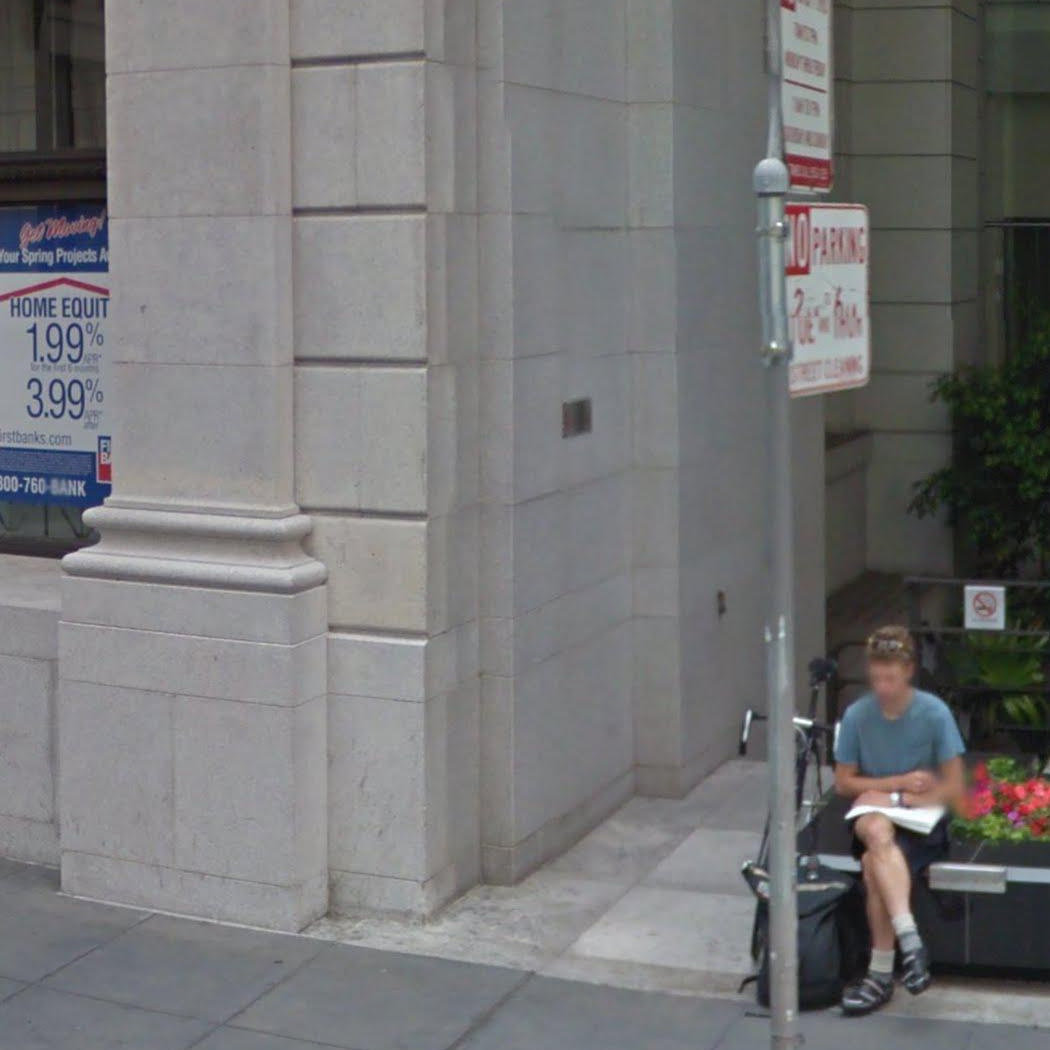No Parking: (776, 201, 876, 400)
